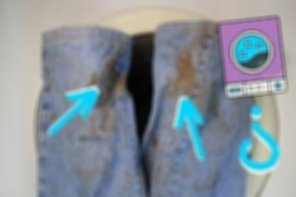earth: (174, 53, 196, 90), (107, 59, 124, 94)
